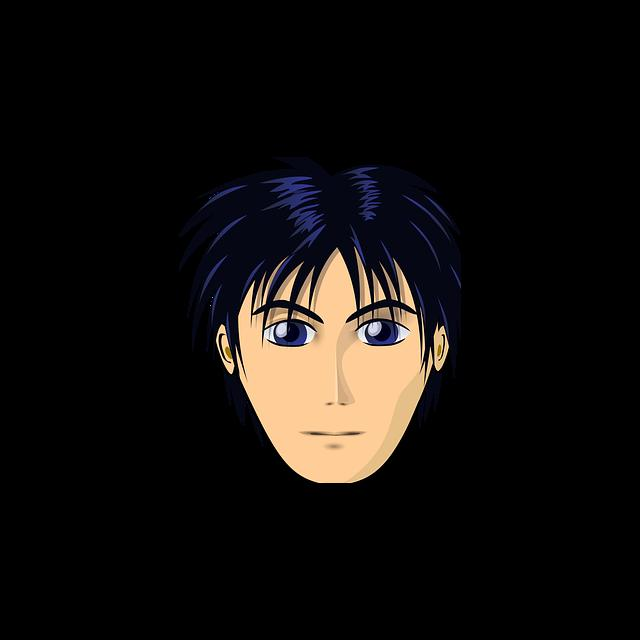male: (193, 157, 453, 482)
